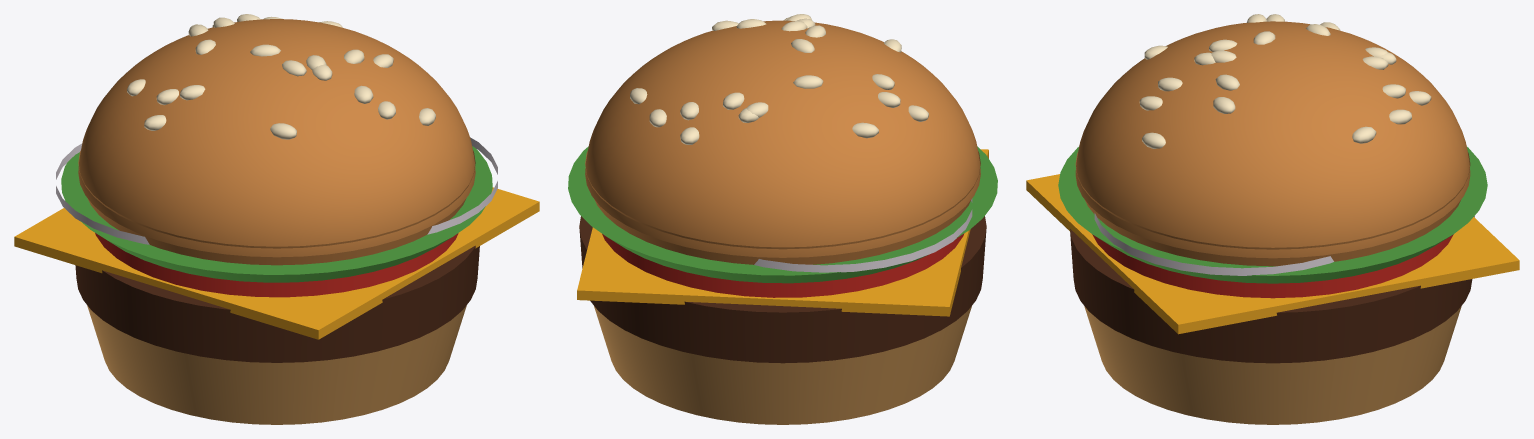
Rendered from hamburguesa.glb.
The picture shows the model from 3 angles, left to right: view 1: azimuth 30°, elevation 25°; view 2: azimuth 150°, elevation 25°; view 3: azimuth 270°, elevation 25°; orthographic projection.
Bounding box in the file's own units: 0.1583 × 0.11 × 0.1583.
